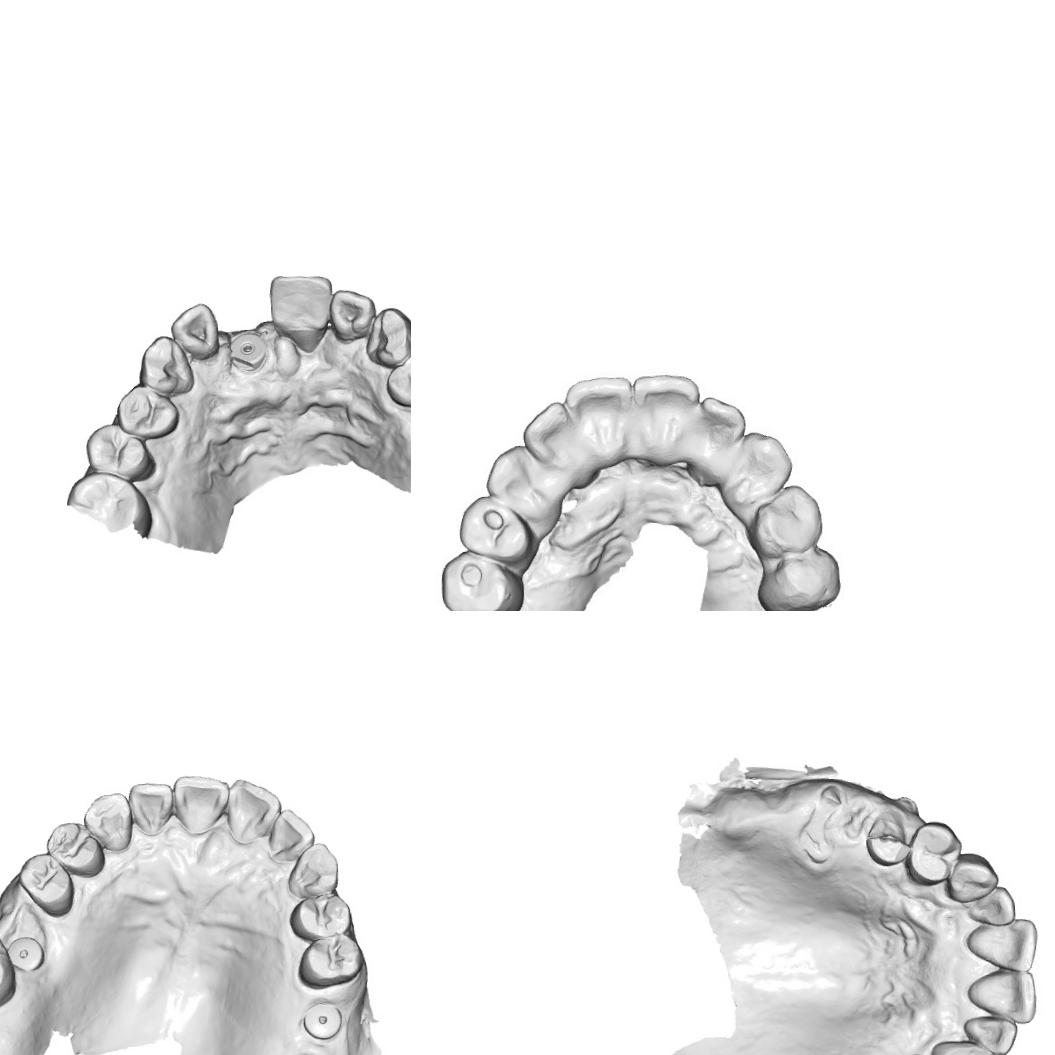canine: (487, 438, 551, 518), (725, 432, 788, 502), (134, 332, 196, 398), (361, 302, 411, 370), (82, 790, 134, 855), (284, 841, 341, 898), (944, 850, 1000, 904), (928, 1027, 997, 1055)
implant: (224, 326, 274, 376), (3, 934, 47, 974), (300, 1001, 344, 1040)
incisor: (638, 370, 711, 473), (566, 374, 641, 464), (266, 270, 336, 355), (526, 402, 588, 480), (963, 913, 1040, 975), (692, 392, 745, 480), (964, 967, 1039, 1028), (224, 775, 282, 847), (172, 772, 232, 836), (166, 298, 222, 363), (326, 285, 379, 344), (266, 806, 316, 862), (126, 780, 174, 838), (963, 1008, 1018, 1055), (963, 885, 1016, 928)
molar: (0, 919, 18, 1013)
premolar: (82, 418, 155, 486), (766, 547, 842, 611), (439, 548, 515, 611), (454, 494, 526, 560), (755, 482, 822, 552), (111, 380, 181, 442), (15, 850, 76, 920), (903, 818, 964, 887), (295, 932, 365, 990), (43, 819, 106, 880), (287, 891, 353, 942), (862, 814, 910, 866), (381, 347, 411, 410)
